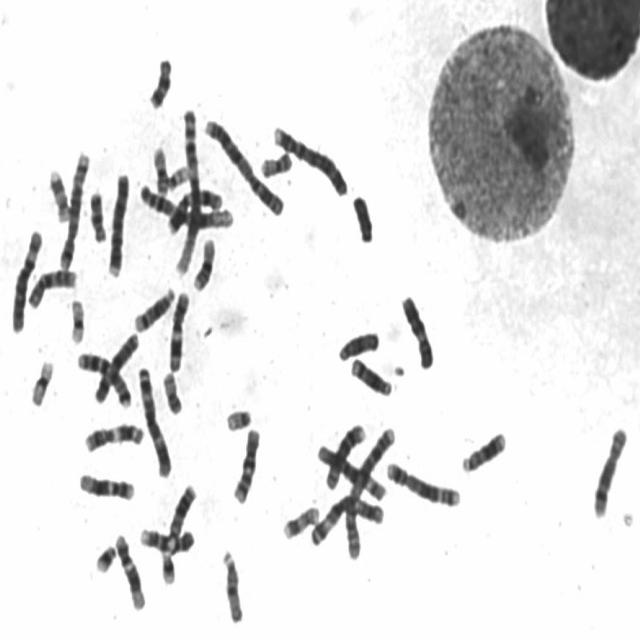A1: (138, 183, 234, 229), (176, 107, 200, 276)
A2: (204, 119, 285, 217), (346, 424, 396, 560)
A3: (308, 492, 385, 548), (138, 367, 172, 478)
B4: (273, 126, 349, 198), (105, 171, 131, 280)
B5: (60, 150, 90, 272), (386, 461, 461, 508)
C10: (233, 426, 261, 506), (28, 268, 79, 310)
C11: (84, 420, 144, 454), (168, 292, 190, 372)
C12: (115, 534, 146, 612), (78, 473, 136, 501)
C6: (317, 442, 388, 501), (11, 226, 42, 335)
C7: (76, 352, 132, 411), (168, 187, 223, 235)
C8: (594, 427, 630, 519), (326, 421, 368, 491)
C9: (400, 294, 434, 370), (140, 530, 196, 552)
D13: (462, 432, 507, 472), (169, 483, 198, 541)
D14: (133, 287, 175, 334), (351, 357, 392, 396)
D15: (222, 548, 244, 624), (338, 330, 380, 363)
E16: (192, 236, 216, 292), (152, 145, 168, 201)
E17: (282, 506, 319, 540), (48, 170, 69, 223)
E18: (148, 57, 174, 109), (88, 191, 107, 244)
F19: (30, 357, 54, 408), (68, 297, 86, 343)
F20: (160, 372, 182, 414), (260, 152, 294, 179)
G21: (94, 543, 116, 575), (160, 550, 177, 588)
G22: (226, 407, 252, 433), (167, 165, 190, 192)
X: (92, 328, 139, 406)
Y: (352, 195, 375, 245)
